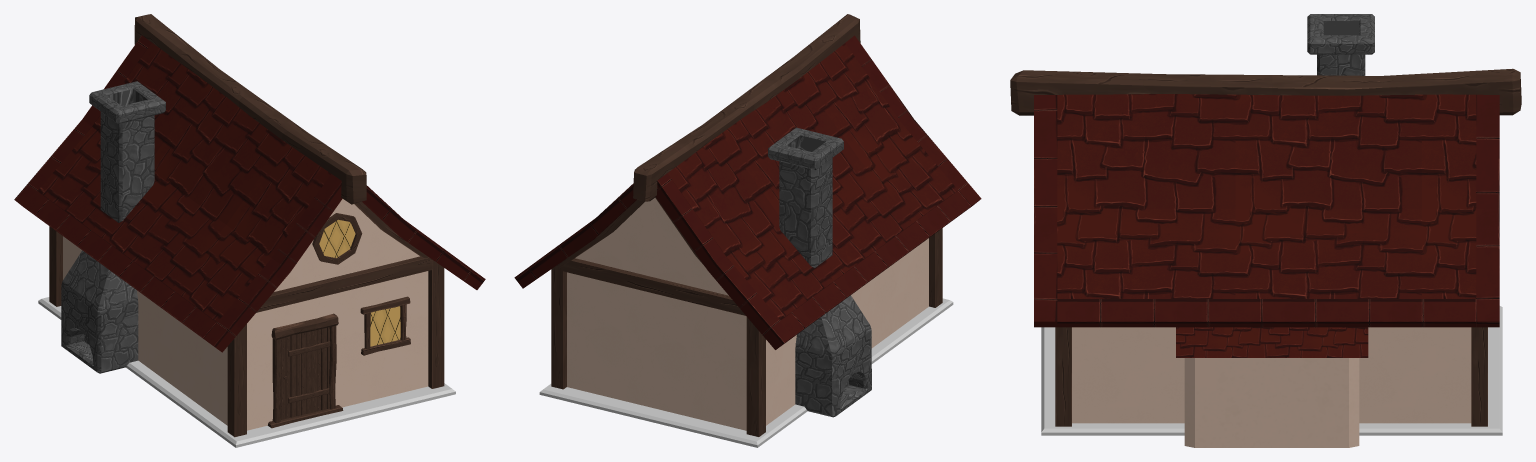
Rendered from HouseD.fbx.
3 views of the same model, side by side, from view 1: azimuth 30°, elevation 25°; view 2: azimuth 150°, elevation 25°; view 3: azimuth 270°, elevation 25° (orthographic). The views are drawn at different scales.
Visible parts, largest first — view 1: House.011; view 2: House.011; view 3: House.011.
Boxes of the visible parts, bbox=[...] form: House.011: bbox=[14, 14, 485, 447]; House.011: bbox=[514, 14, 981, 447]; House.011: bbox=[1010, 14, 1521, 447].
Bounding box in the file's own units: 11.11 × 9.58 × 14.76.
